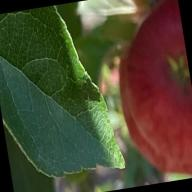Apples: (106, 0, 191, 182)
